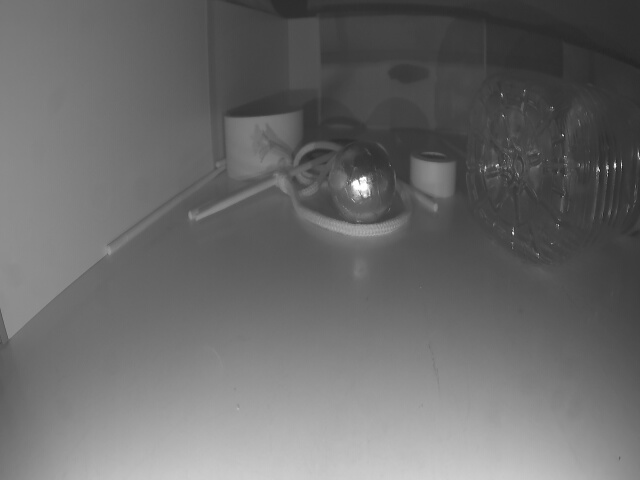Live: (328, 140, 397, 227)
